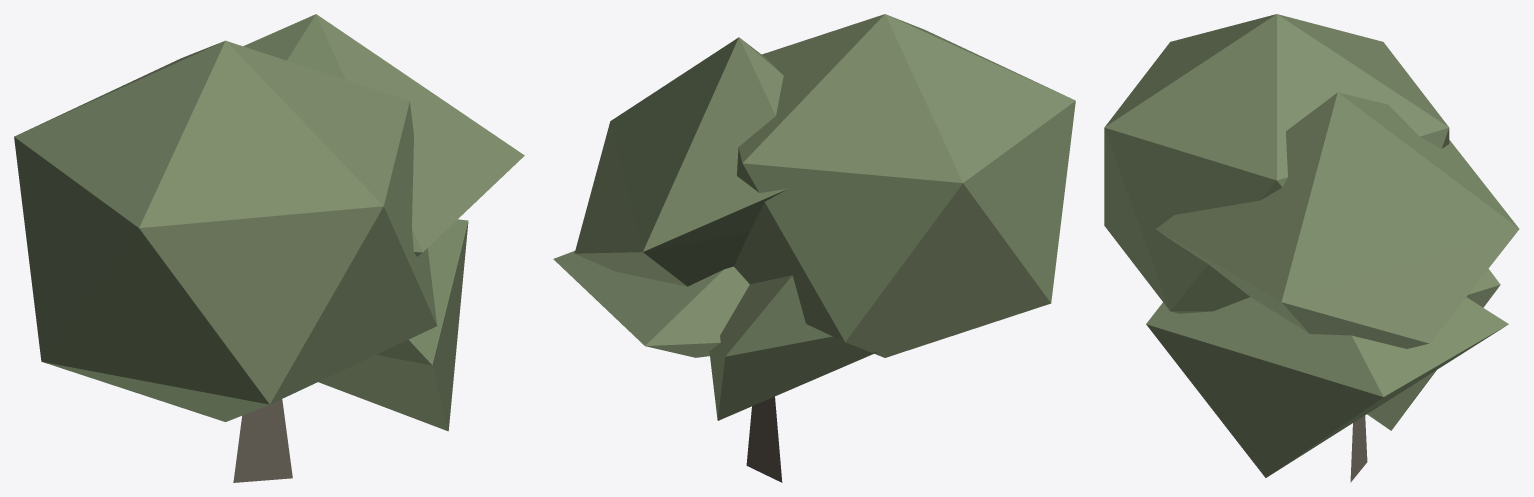
File: bush_b_LOD1.fbx
3 views of the same model, side by side, from view 1: azimuth 30°, elevation 25°; view 2: azimuth 150°, elevation 25°; view 3: azimuth 270°, elevation 25° (orthographic). The views are drawn at different scales.
Visible parts, largest first — view 1: bush_b_LOD1; view 2: bush_b_LOD1; view 3: bush_b_LOD1.
Part boxes in pixels (<box>): bush_b_LOD1: <box>14,14,524,482</box>; bush_b_LOD1: <box>553,14,1075,482</box>; bush_b_LOD1: <box>1104,14,1519,482</box>.
Size of the model in its own units: 92.86 by 89.91 by 79.99.
